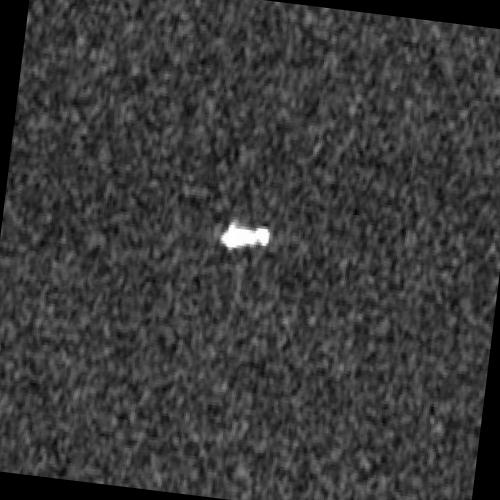ship: (220, 219, 270, 251)
